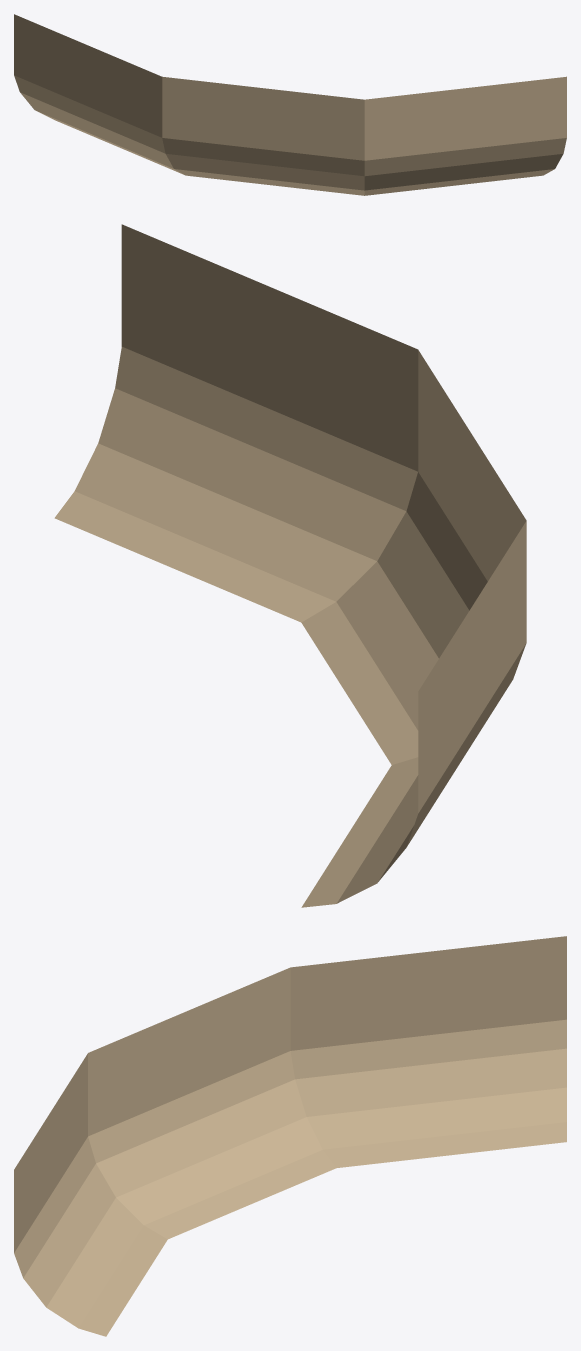
Rendered from Escarpment_Terrain_Corner_Inner_3x3_Base.obj.
3 views of the same model, one above another, from view 1: azimuth 30°, elevation 25°; view 2: azimuth 150°, elevation 25°; view 3: azimuth 270°, elevation 25° (orthographic). The views are drawn at different scales.
Visible parts, largest first — view 1: object1; view 2: object1; view 3: object1.
Boxes of the visible parts, x1,y1,x2,y2 form: object1: (14,14,566,195); object1: (54,224,526,907); object1: (14,936,566,1336).
Bounding box in the file's own units: 3 × 1 × 3.
